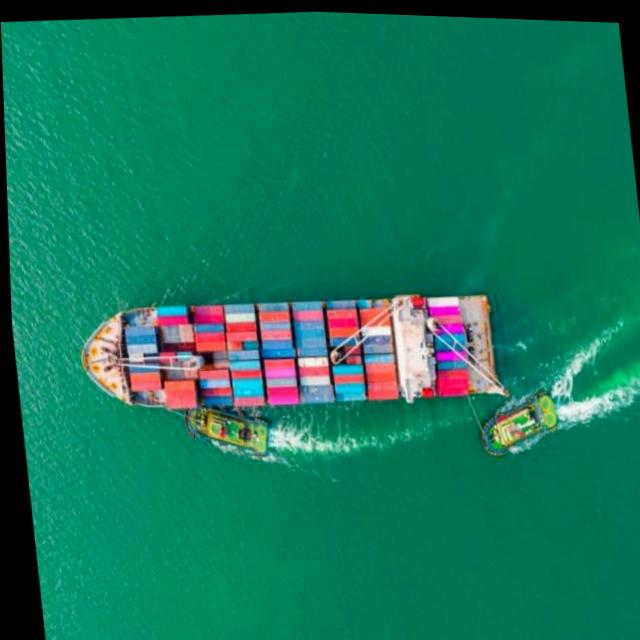ship2: (78, 288, 501, 408), (477, 384, 558, 451), (179, 405, 268, 455)
